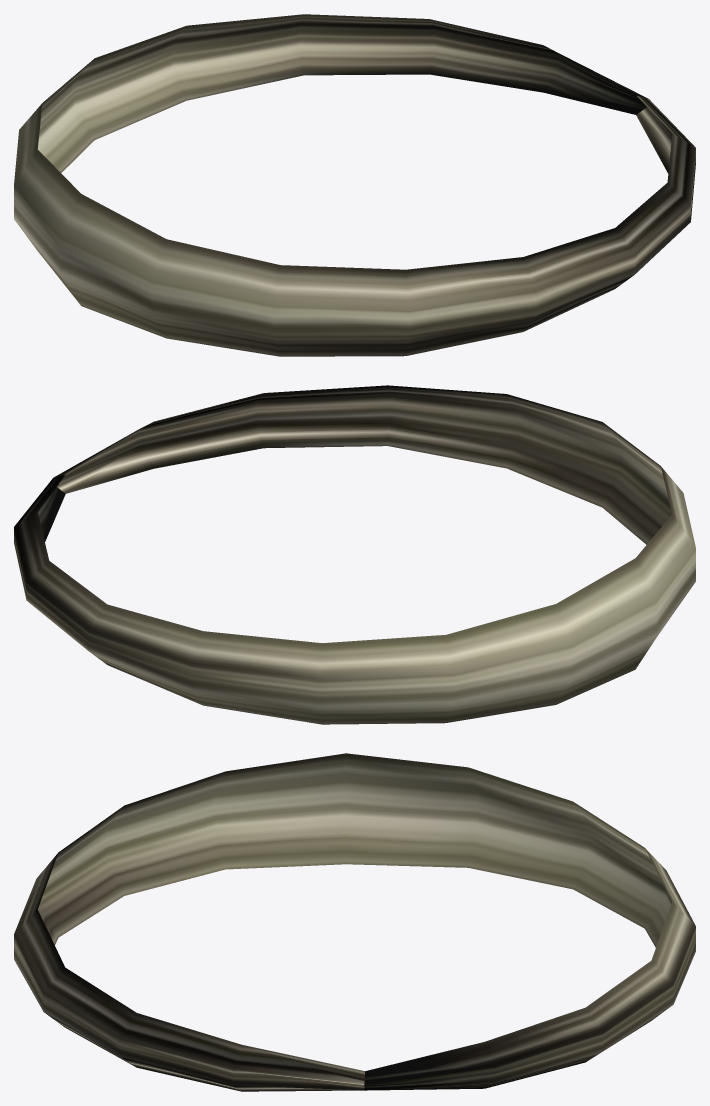
File: stunRing.fbx
3 renders of one model, top to bottom at view 1: azimuth 30°, elevation 25°; view 2: azimuth 150°, elevation 25°; view 3: azimuth 270°, elevation 25°, orthographic.
Visible parts, largest first — view 1: stunring; view 2: stunring; view 3: stunring.
Part boxes in pixels (x1=…): stunring: x1=14, y1=14, x2=695, y2=356; stunring: x1=14, y1=385, x2=695, y2=724; stunring: x1=14, y1=753, x2=695, y2=1091.
Size of the model in its own units: 192 by 34.52 by 192.
1 material, 1 textured.
